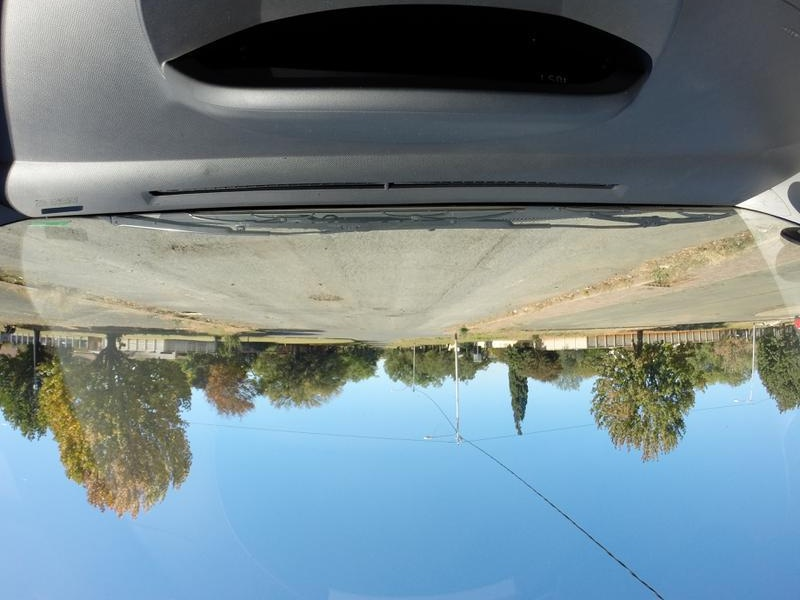pothole: (167, 241, 213, 255), (298, 292, 346, 303), (382, 310, 402, 317), (367, 306, 389, 311)
